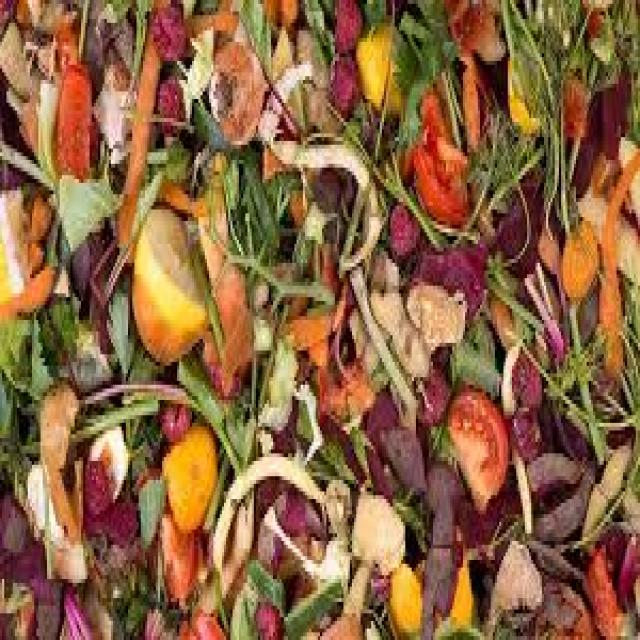food_waste: (10, 16, 620, 618), (29, 50, 511, 584)
